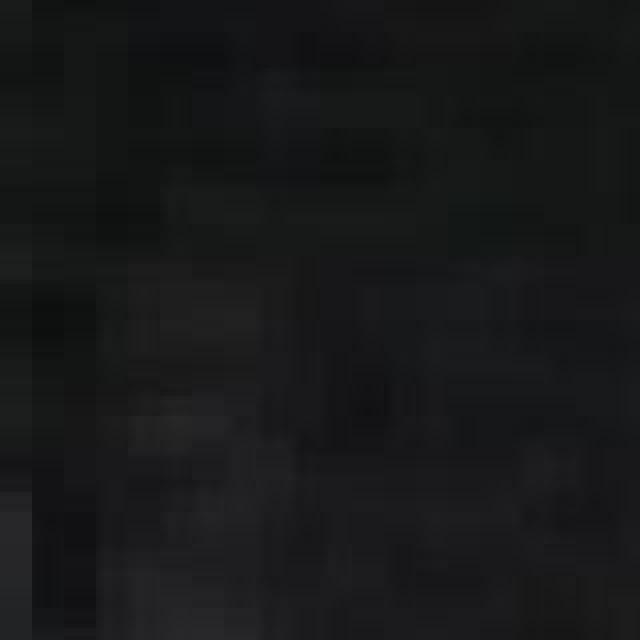diode: (124, 0, 640, 640)
